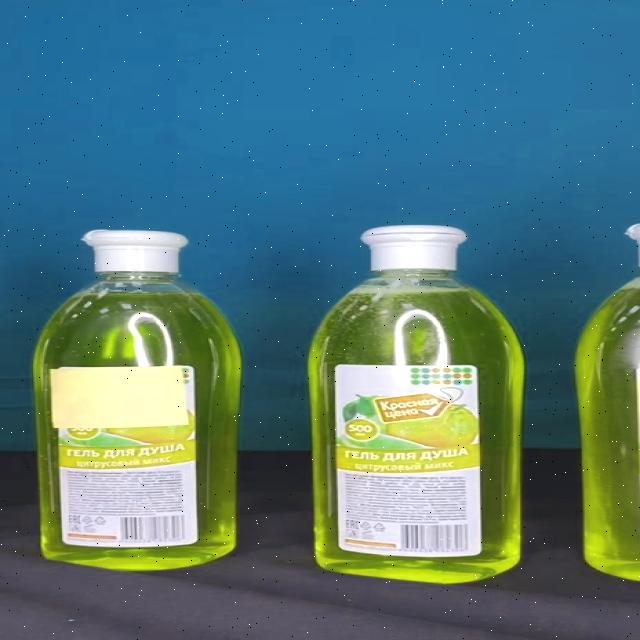Bottle: (310, 225, 526, 584), (32, 230, 244, 571)
Cap: (82, 229, 188, 273), (361, 226, 466, 269)
